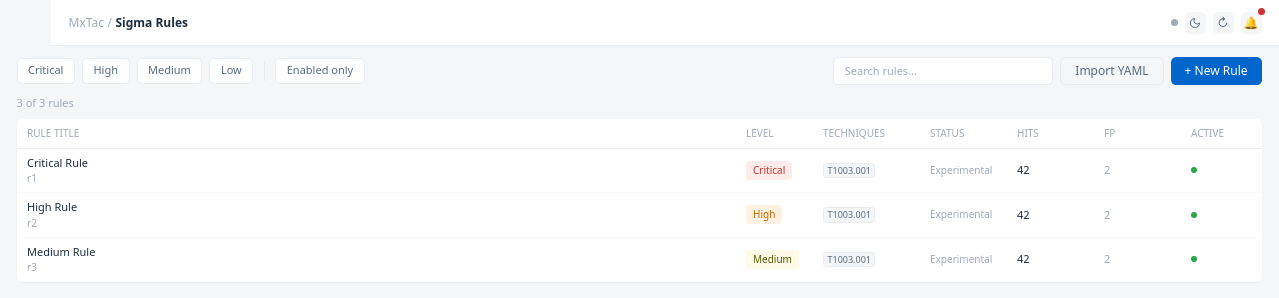
Test: RulesPage › level filter › shows all rules again when the active level filter is deactivated
The image size is (1279, 298).
Expected: the text "Critical Rule" is shown, 27,154 -> 88,170
Click the button "critical" at [46, 70], box 16,58 -> 75,84
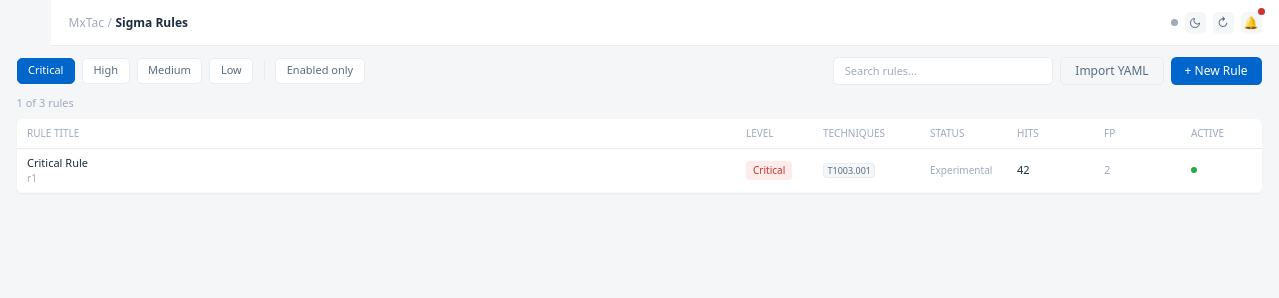
Click the button "critical" at [46, 70], box 16,58 -> 75,84
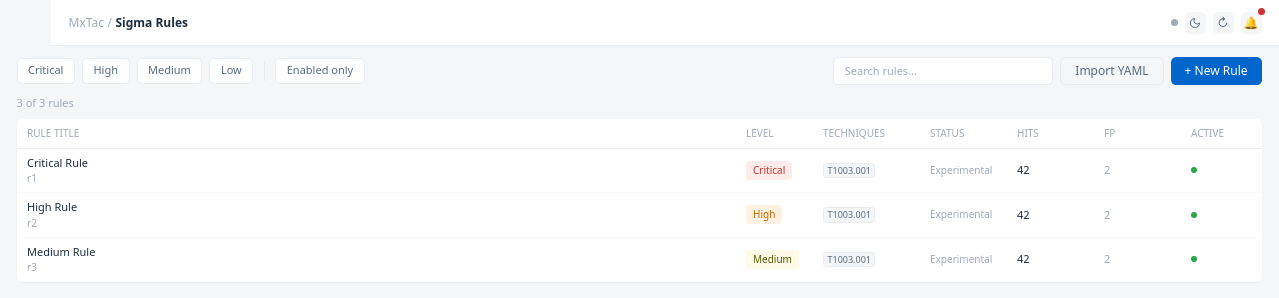
Expected: the text "Critical Rule" is shown, 27,154 -> 88,170
Now the text "High Rule" is shown, box 27,199 -> 77,214
Now the text "Medium Rule" is shown, box 27,244 -> 95,258
